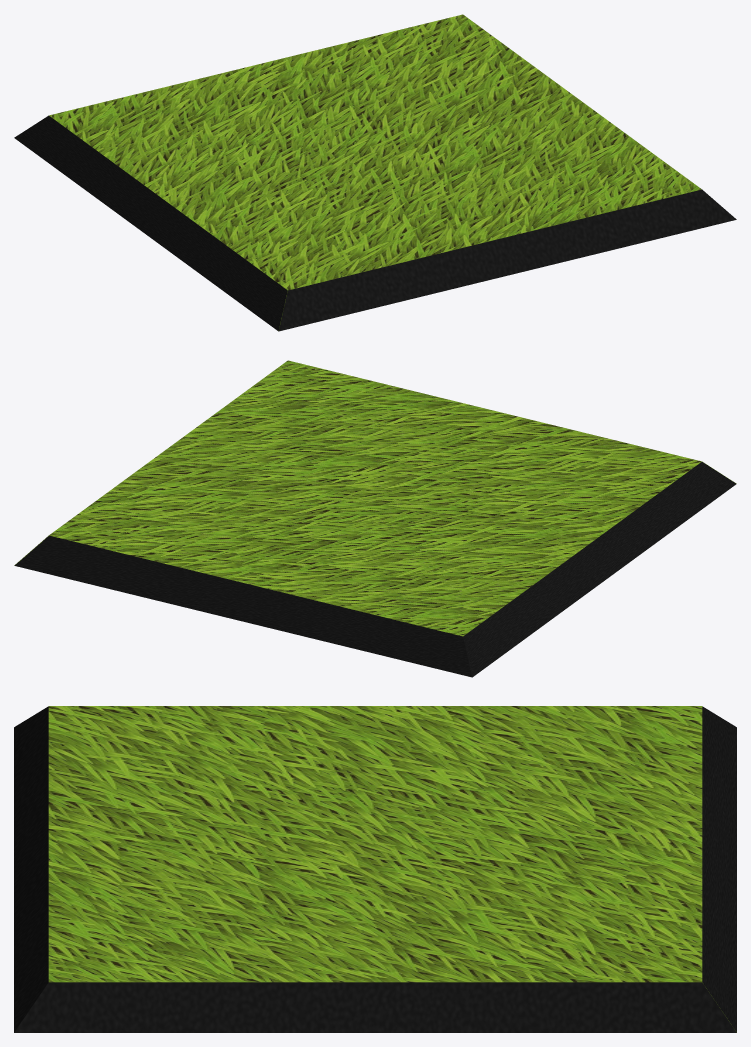
The model's file is MiniatureBase.glb.
3 renders of one model, top to bottom at view 1: azimuth 30°, elevation 25°; view 2: azimuth 150°, elevation 25°; view 3: azimuth 270°, elevation 25°, orthographic. The views are drawn at different scales.
Parts seen in each view (by area): view 1: Cube; view 2: Cube; view 3: Cube.
Boxes of the visible parts, <box> form: Cube: <box>14,14,736,331</box>; Cube: <box>14,360,736,677</box>; Cube: <box>14,706,736,1032</box>.
Size of the model in its own units: 2 by 0.1098 by 2.
Materials: 1 (1 with a texture image).
